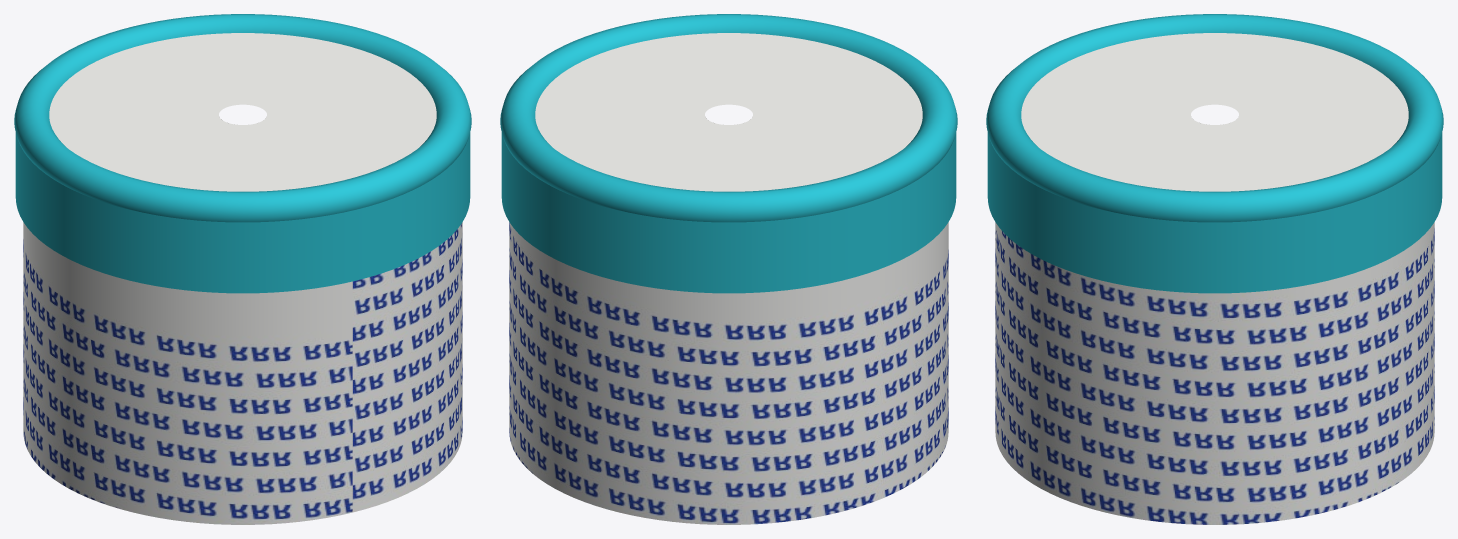
3 views of the same model, side by side, from view 1: azimuth 30°, elevation 25°; view 2: azimuth 150°, elevation 25°; view 3: azimuth 270°, elevation 25° (orthographic).
Parts seen in each view (by area): view 1: E50-H114; view 2: E50-H114; view 3: E50-H114.
Part boxes in pixels (box(x1,y1,x2,y2)): E50-H114: box(14, 14, 471, 524); E50-H114: box(500, 14, 957, 524); E50-H114: box(986, 14, 1443, 524).
Size of the model in its own units: 0.149 by 0.1177 by 0.149.
6 materials, 1 textured.
